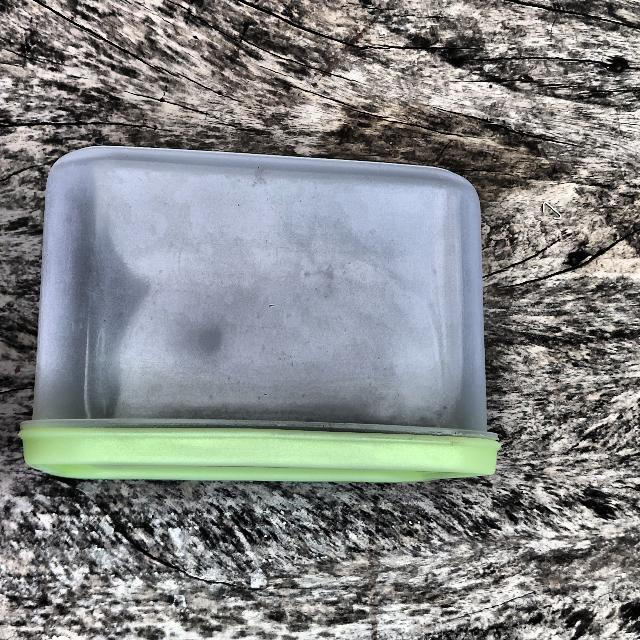plastic container: (16, 135, 518, 510)
